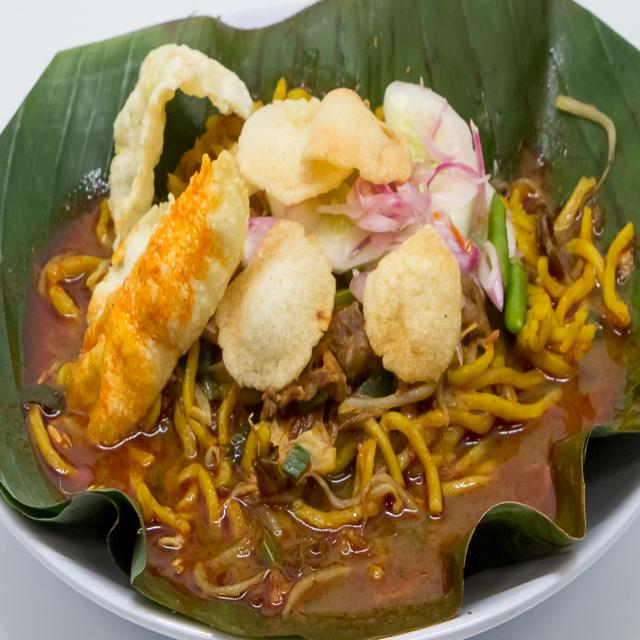Mie-Aceh: (29, 27, 631, 588)
